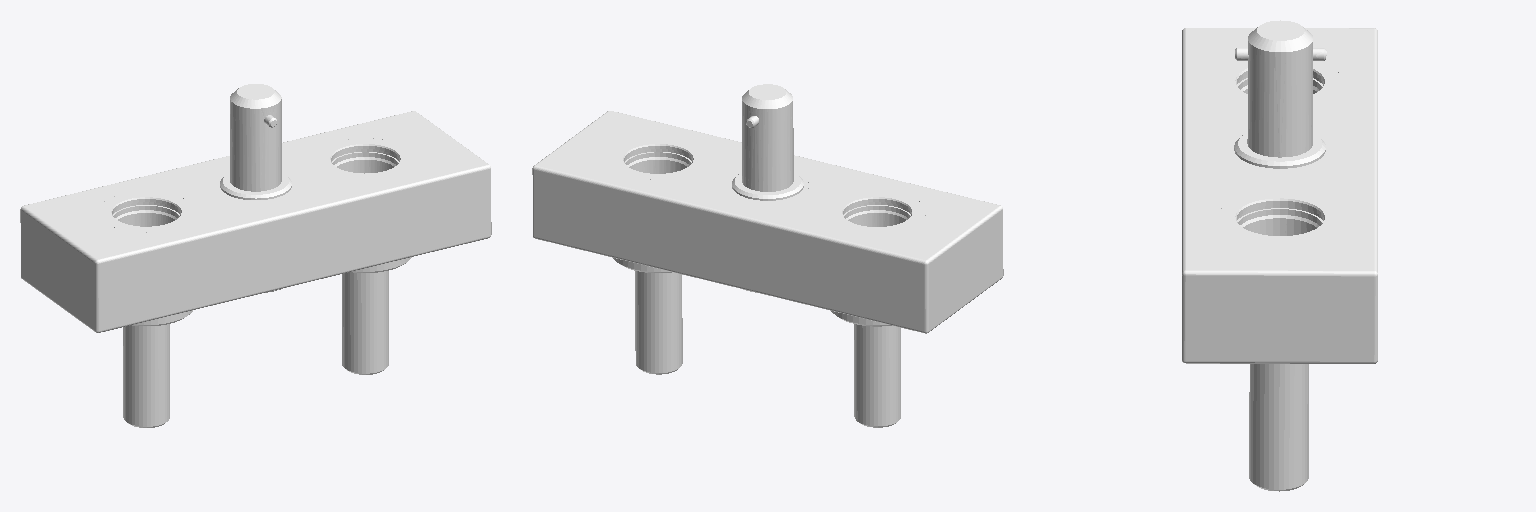
The robot description file, URDF, robot "arm":
<?xml version="1.0" encoding="UTF-8" ?>
<robot name="arm">
    <link name="base_link">
        <visual>
            <origin xyz="0 0 0" rpy="0 0 0" />
            <geometry>
                <mesh filename="package://robotic-arm-refuelling/meshes/dofbot/base_link.stl" scale="5 5 5" />
            </geometry>
            <material name="">
                <color rgba="0.592156862745098 0.666666666666667 0.682352941176471 1" />
            </material>
        </visual>
        <collision>
            <origin xyz="0 0 0" rpy="0 0 0" />
            <geometry>
                <mesh filename="package://robotic-arm-refuelling/meshes/dofbot/base_link.stl" scale="5 5 5" />
            </geometry>
        </collision>
        <inertial>
           <mass value="10"/>
           <inertia ixx="8" ixy="0.0" ixz="0.0" iyy="4" iyz="0.0" izz="4"/>
        </inertial>
    </link>
    <link name="link1">
        <visual>
            <origin xyz="0 0 0" rpy="0 0 0" />
            <geometry>
                <mesh filename="package://robotic-arm-refuelling/meshes/dofbot/link1.stl" scale="5 5 5" />
            </geometry>
            <material name="">
                <color rgba="0 0.627450980392157 0.235294117647059 1" />
            </material>
        </visual>
        <collision>
            <origin xyz="0 0 0" rpy="0 0 0" />
            <geometry>
                <mesh filename="package://robotic-arm-refuelling/meshes/dofbot/link1.stl" scale="5 5 5" />
            </geometry>
        </collision>
        <inertial>
           <mass value="10"/>
           <inertia ixx="0.4" ixy="0.0" ixz="0.0" iyy="0.4" iyz="0.0" izz="0.4"/>
        </inertial>
    </link>
    <joint name="joint1" type="revolute">
        <origin xyz="0 0 0.33025" rpy="-0.010805 0 0" />
        <parent link="base_link" />
        <child link="link1" />
        <axis xyz="0 0 1" />
        <limit effort="30" velocity="1.0" lower="-1.5708" upper="1.5708"/>
    </joint>
    <link name="link2">
        <visual>
            <origin xyz="0 0 0" rpy="0 0 0" />
            <geometry>
                <mesh filename="package://robotic-arm-refuelling/meshes/dofbot/link2.stl" scale="5 5 5" />
            </geometry>
            <material name="">
                <color rgba="0.592156862745098 0.666666666666667 0.682352941176471 1" />
            </material>
        </visual>
        <collision>
            <origin xyz="0 0 0" rpy="0 0 0" />
            <geometry>
                <mesh filename="package://robotic-arm-refuelling/meshes/dofbot/link2.stl" scale="5 5 5" />
            </geometry>
        </collision>
        <inertial>
           <mass value="10"/>
           <inertia ixx="0.4" ixy="0.0" ixz="0.0" iyy="0.4" iyz="0.0" izz="0.4"/>
        </inertial>
    </link>
    <joint name="joint2" type="revolute">
        <origin xyz="0 -0.00159365 0.20725" rpy="0 1.5708 0" />
        <parent link="link1" />
        <child link="link2" />
        <axis xyz="0 0 1" />
        <limit effort="30" velocity="1.0" lower="-1.5708" upper="1.5708"/>
    </joint>
    <link name="link3">
        <visual>
            <origin xyz="0 0 0" rpy="0 0 0" />
            <geometry>
                <mesh filename="package://robotic-arm-refuelling/meshes/dofbot/link3.stl" scale="5 5 5" />
            </geometry>
            <material name="">
                <color rgba="0 0.627450980392157 0.235294117647059 1" />
            </material>
        </visual>
        <collision>
            <origin xyz="0 0 0" rpy="0 0 0" />
            <geometry>
                <mesh filename="package://robotic-arm-refuelling/meshes/dofbot/link3.stl" scale="5 5 5" />
            </geometry>
        </collision>
        <inertial>
           <mass value="10"/>
           <inertia ixx="0.4" ixy="0.0" ixz="0.0" iyy="0.4" iyz="0.0" izz="0.4"/>
        </inertial>
    </link>
    <joint name="joint3" type="revolute">
        <origin xyz="-0.41425 0 0" rpy="0 0 0" />
        <parent link="link2" />
        <child link="link3" />
        <axis xyz="0 0 1" />
        <limit effort="30" velocity="1.0" lower="-1.5708" upper="1.5708"/>
    </joint>
    <link name="link4">
        <visual>
            <origin xyz="0 0 0" rpy="0 0 0" />
            <geometry>
                <mesh filename="package://robotic-arm-refuelling/meshes/dofbot/link4.stl" scale="5 5 5" />
            </geometry>
            <material name="">
                <color rgba="0.592156862745098 0.666666666666667 0.682352941176471 1" />
            </material>
        </visual>
        <collision>
            <origin xyz="0 0 0" rpy="0 0 0" />
            <geometry>
                <mesh filename="package://robotic-arm-refuelling/meshes/dofbot/link4.stl" scale="5 5 5" />
            </geometry>
        </collision>
        <inertial>
           <mass value="10"/>
           <inertia ixx="0.4" ixy="0.0" ixz="0.0" iyy="0.4" iyz="0.0" izz="0.4"/>
        </inertial>
    </link>
    <joint name="joint4" type="revolute">
        <origin xyz="-0.41425 0 0" rpy="0 0 0.0083081" />
        <parent link="link3" />
        <child link="link4" />
        <axis xyz="0 0 1" />
        <limit effort="30" velocity="1.0" lower="-1.5708" upper="1.5708"/>
    </joint>
    <!-- link5 -->
    <link name="link5">
        <visual>
            <origin xyz="-0.2 0.075 0.2" rpy="3.14 0 0"/>
            <geometry>
                <mesh filename="package://robotic-arm-refuelling/meshes/refueller/injector.stl" scale="0.003 0.003 0.003" />
            </geometry>
            <material name="">
                <color rgba="1 1 1 1" />
            </material>
        </visual>
        <collision>
            <origin xyz="-0.2 0.075 0.2" rpy="3.14 0 0" />
            <geometry>
                <mesh filename="package://robotic-arm-refuelling/meshes/refueller/injector.stl" scale="0.003 0.003 0.003" />
            </geometry>
        </collision>
        <inertial>
           <mass value="10"/>
           <inertia ixx="0.4" ixy="0.0" ixz="0.0" iyy="0.4" iyz="0.0" izz="0.4"/>
        </inertial>
    </link>
    <!-- joint5 -->
    <joint name="joint5" type="revolute">
        <origin xyz="-0.36925 -0.005 0" rpy="0 -1.57 0"/>
        <axis xyz="0 0 1"/>
        <parent link="link4"/>
        <child link="link5"/>
        <limit effort="30" velocity="1.0" lower="-1.5708" upper="3.1416"/>
    </joint>

    <gazebo reference="base_link">
        <material>Gazebo/Black</material>
    </gazebo>
    <gazebo reference="link1">
        <material>Gazebo/Green</material>
    </gazebo>
    <gazebo reference="link2">
        <material>Gazebo/Black</material>
    </gazebo>
    <gazebo reference="link3">
        <material>Gazebo/Green</material>
    </gazebo>
    <gazebo reference="link4">
        <material>Gazebo/Black</material>
    </gazebo>
    <gazebo reference="link5">
        <material>Gazebo/White</material>
    </gazebo>

    <!-- PositionJointInterface -->
    <transmission name ="trans_1">
        <type>transmission_interface/SimpleTransmission</type>
        <joint name="joint1">
            <hardwareInterface>hardware_interface/PositionJointInterface</hardwareInterface>
        </joint>
        <actuator name="motor_1">
            <hardwareInterface>hardware_interface/PositionJointInterface</hardwareInterface>
            <mechanicalReduction>1</mechanicalReduction>
        </actuator>
    </transmission>

    <transmission name ="trans_2">
        <type>transmission_interface/SimpleTransmission</type>
        <joint name="joint2">
            <hardwareInterface>hardware_interface/PositionJointInterface</hardwareInterface>
        </joint>
        <actuator name="motor_2">
            <hardwareInterface>hardware_interface/PositionJointInterface</hardwareInterface>
            <mechanicalReduction>1</mechanicalReduction>
        </actuator>
    </transmission>
    <transmission name ="trans_3">
        <type>transmission_interface/SimpleTransmission</type>
        <joint name="joint3">
            <hardwareInterface>hardware_interface/PositionJointInterface</hardwareInterface>
        </joint>
        <actuator name="motor_3">
            <hardwareInterface>hardware_interface/PositionJointInterface</hardwareInterface>
            <mechanicalReduction>1</mechanicalReduction>
        </actuator>
    </transmission>
    <transmission name ="trans_4">
        <type>transmission_interface/SimpleTransmission</type>
        <joint name="joint4">
            <hardwareInterface>hardware_interface/PositionJointInterface</hardwareInterface>
        </joint>
        <actuator name="motor_4">
            <hardwareInterface>hardware_interface/PositionJointInterface</hardwareInterface>
            <mechanicalReduction>1</mechanicalReduction>
        </actuator>
    </transmission>
    <transmission name ="trans_5">
        <type>transmission_interface/SimpleTransmission</type>
        <joint name="joint5">
            <hardwareInterface>hardware_interface/PositionJointInterface</hardwareInterface>
        </joint>
        <actuator name="motor_5">
            <hardwareInterface>hardware_interface/PositionJointInterface</hardwareInterface>
            <mechanicalReduction>1</mechanicalReduction>
        </actuator>
    </transmission>

    <gazebo>
        <plugin name="control" filename="libgazebo_ros_control.so"/>
    </gazebo>

</robot>

--- What the picture shows (computed from the rendered views, not written in the file) ---
Views: 3 orthographic renders of the robot side by side, from view 1: azimuth 30°, elevation 25°; view 2: azimuth 150°, elevation 25°; view 3: azimuth 270°, elevation 25°.
Model arm with 6 links and 5 joints (5 revolute), rooted at base_link, posed all joints at 0.
Links seen in each view (by area): view 1: link5; view 2: link5; view 3: link5.
Link boxes in pixels (x1,y1,x2,y2): link5: (20, 84, 491, 427); link5: (532, 84, 1003, 427); link5: (1182, 20, 1377, 491).
Size in the robot's own frame: 0.3991 by 0.1353 by 0.2896 metres.
1 mesh visuals loaded from 6 distinct referenced files (1 binary STL); not drawn: 5 (reference not matched to a file when rendering).